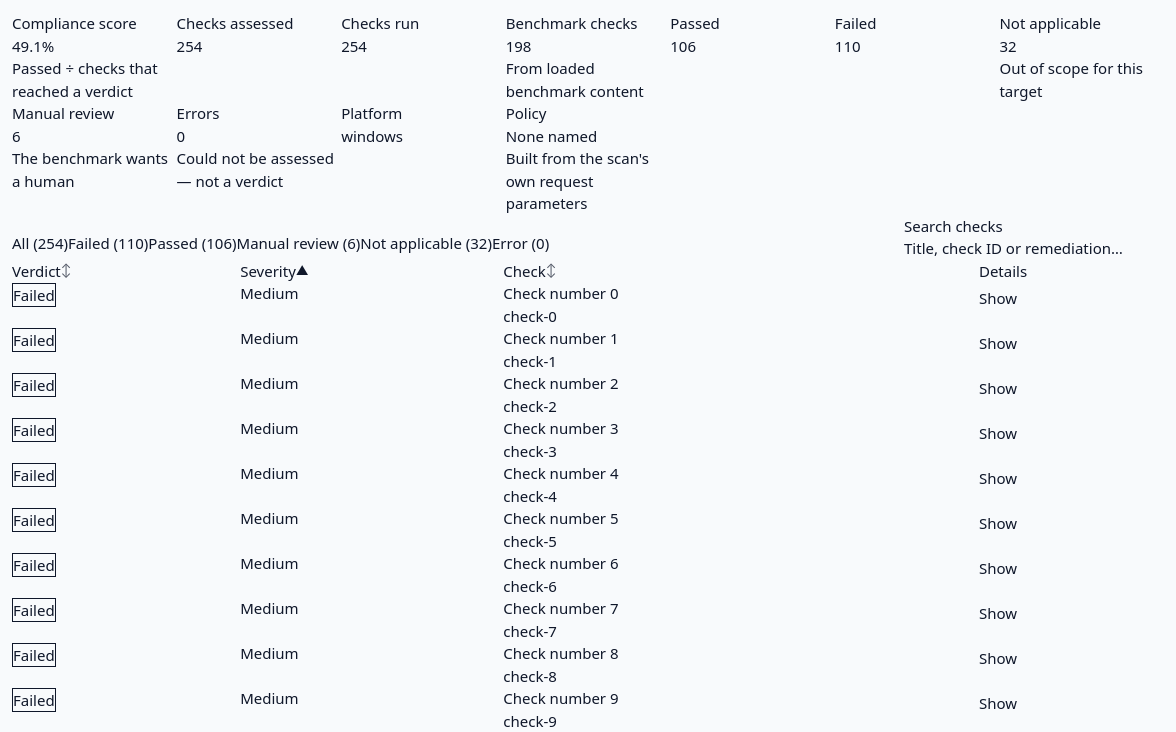
ConfigAuditSection — large result sets › filters across the whole set, not only the visible page
The image size is (1176, 732).
In the search field labelled "Search checks": (1034, 248) [904,238,1164,258], type "number 200"
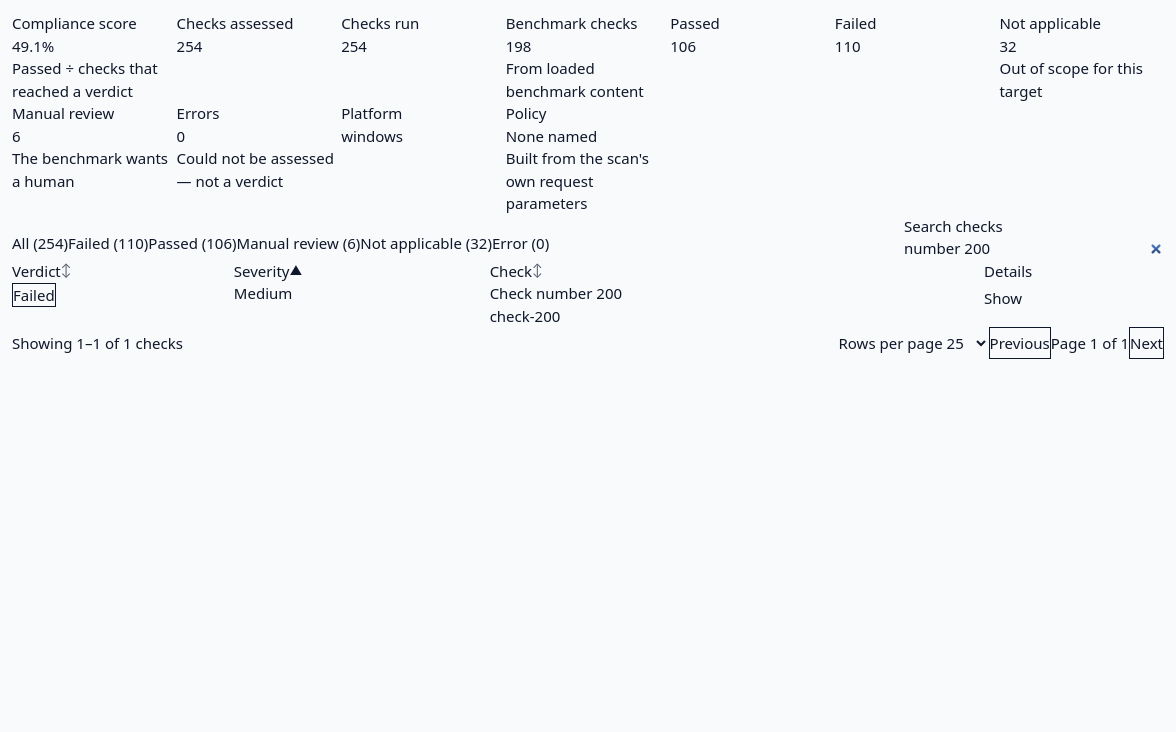
Now the text "Check number 200" is shown, box [490,283,622,303]
